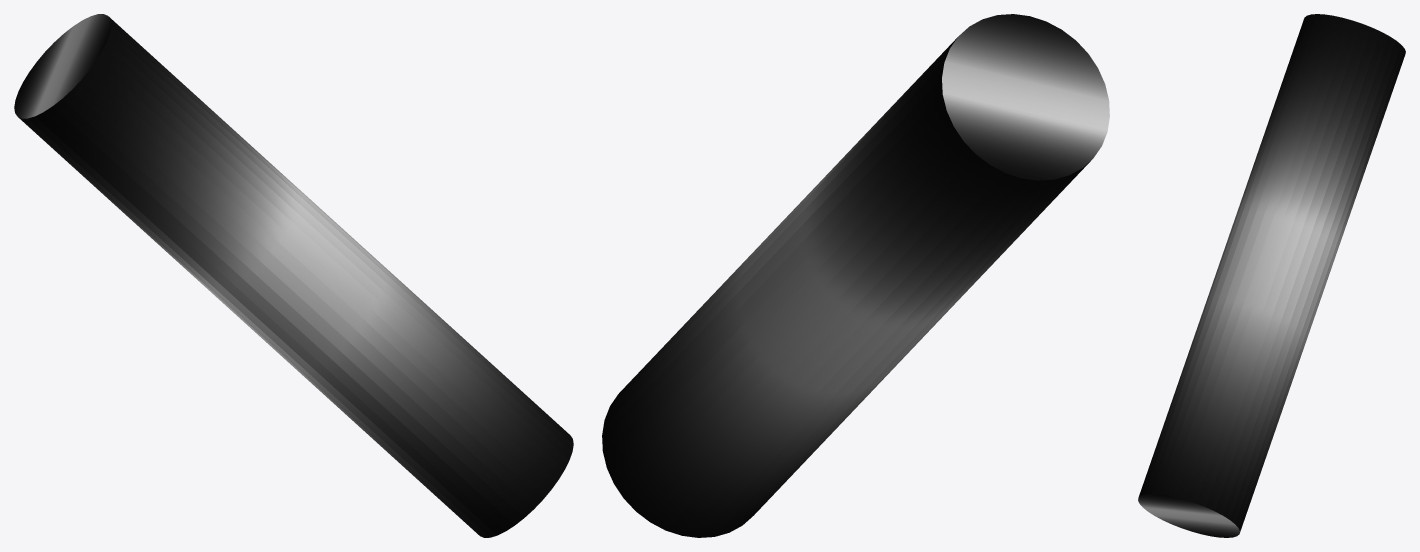
The model's file is panelsupport1.obj.
3 renders of one model, left to right at view 1: azimuth 30°, elevation 25°; view 2: azimuth 150°, elevation 25°; view 3: azimuth 270°, elevation 25°, orthographic. The views are drawn at different scales.
Visible parts, largest first — view 1: PanelSupport1_Cylinder.007; view 2: PanelSupport1_Cylinder.007; view 3: PanelSupport1_Cylinder.007.
Boxes of the visible parts, x1,y1,x2,y2 form: PanelSupport1_Cylinder.007: (14,14,573,537); PanelSupport1_Cylinder.007: (602,14,1109,537); PanelSupport1_Cylinder.007: (1138,14,1405,537).
Bounding box in the file's own units: 0.00828 × 0.00908 × 0.00539.
